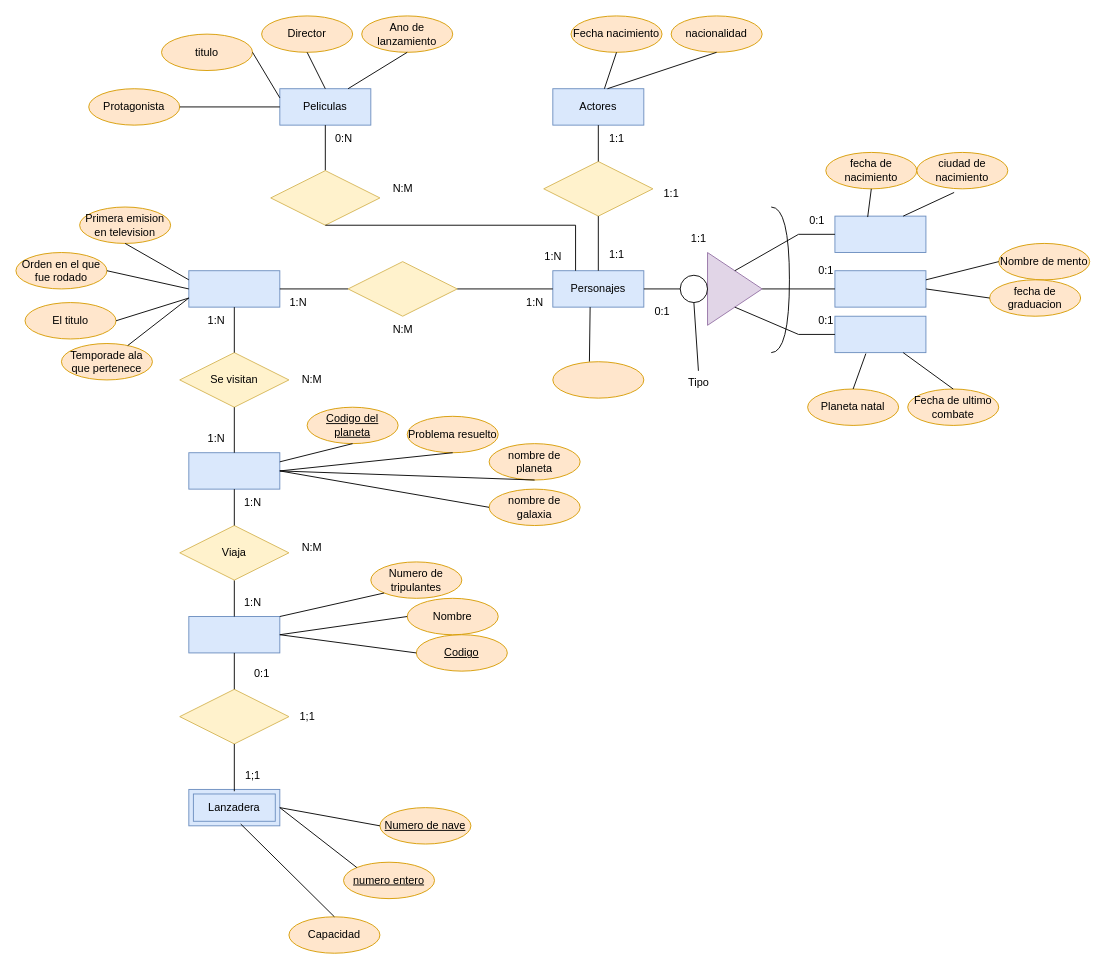
Some shapes in this 1106 by 969 pixel diagram are drawn without their labels. The shapes that lost their labels are listed below. From the top down, each one's box as (x1, y1, x2, y2) in pixels, then its label:
(270, 170, 380, 225): Aparecieron
(543, 161, 653, 216): Interpreta
(834, 215, 926, 253): Humano
(188, 270, 280, 307): Capitulos
(347, 261, 457, 316): Participaron
(834, 270, 926, 307): Vulcano
(834, 315, 926, 353): Klingon
(552, 361, 644, 398): Rango militar
(188, 452, 280, 489): Planetas
(188, 616, 280, 653): Nave
(179, 688, 289, 744): Tiene
